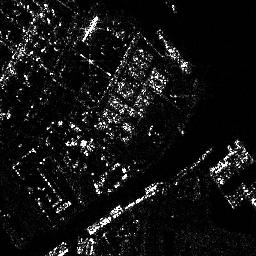ship: (156, 27, 189, 75), (82, 13, 100, 43)
